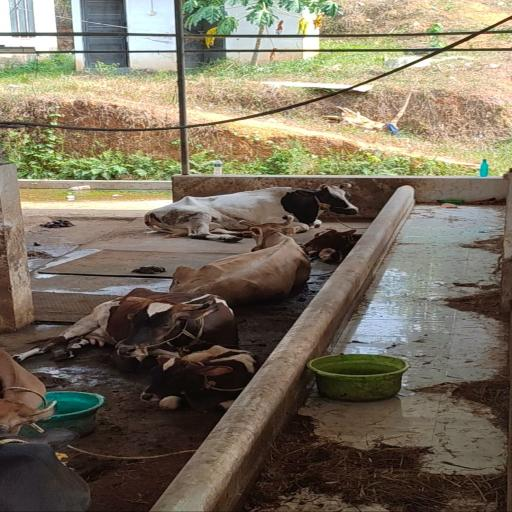cow-resting: (17, 288, 239, 371), (170, 215, 310, 305), (144, 184, 358, 242), (141, 346, 255, 412), (301, 229, 362, 264)
